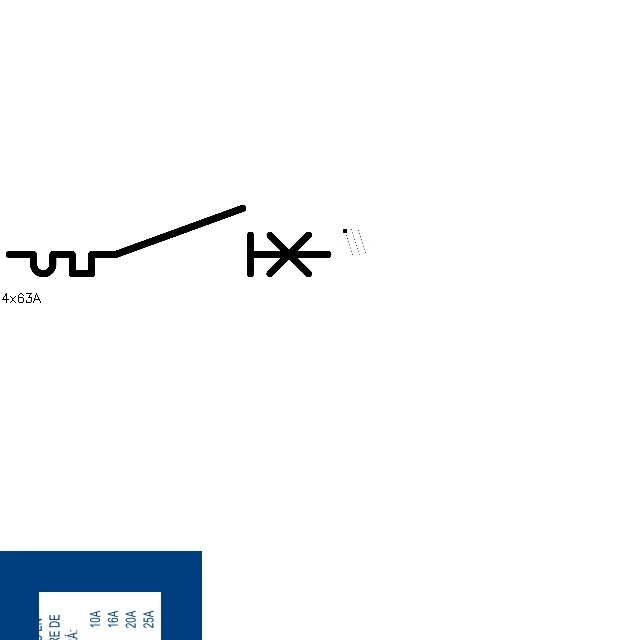interruptor_termomagnetico: (1, 200, 336, 282)
